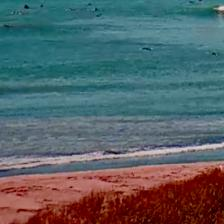surfer: (141, 47, 152, 52), (13, 11, 22, 16), (93, 7, 100, 13), (211, 51, 219, 56), (188, 0, 196, 5), (68, 8, 76, 13), (3, 24, 12, 28), (86, 2, 93, 7), (96, 13, 102, 18), (24, 4, 30, 9), (198, 0, 204, 3), (40, 4, 44, 8)
